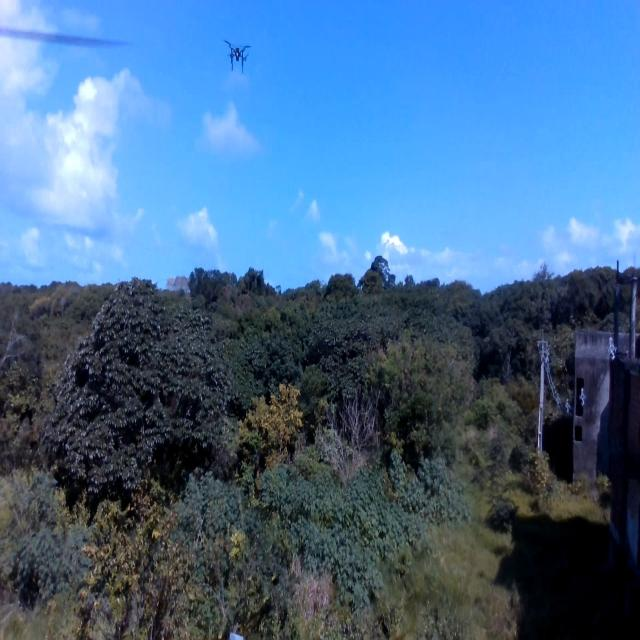-uav-: (223, 36, 253, 81)
